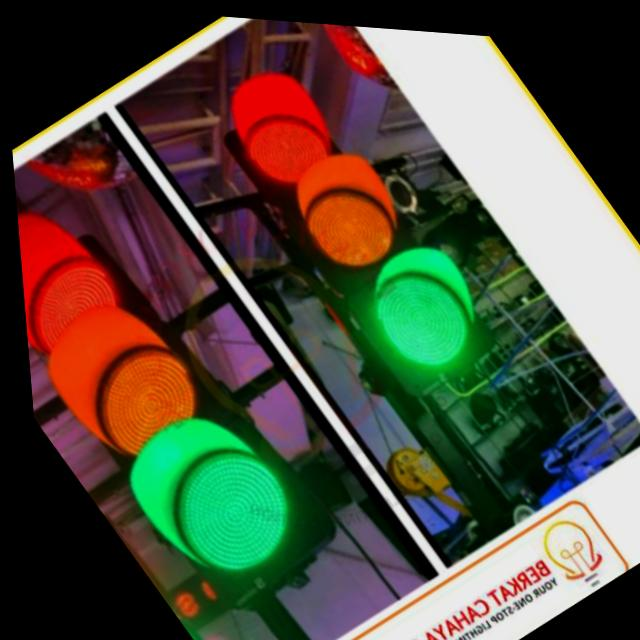Hijau: (141, 428, 306, 590), (353, 248, 483, 378)
Kuning: (64, 326, 212, 468), (288, 162, 405, 277)
Merah: (219, 70, 350, 199), (16, 243, 124, 366)
